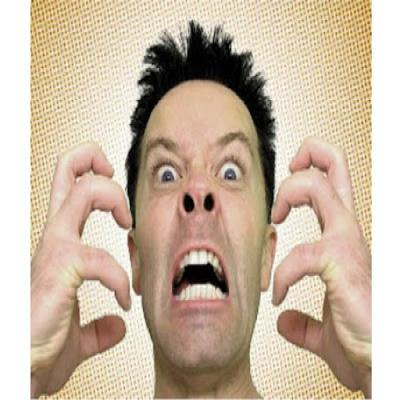angry: (127, 82, 273, 372)
